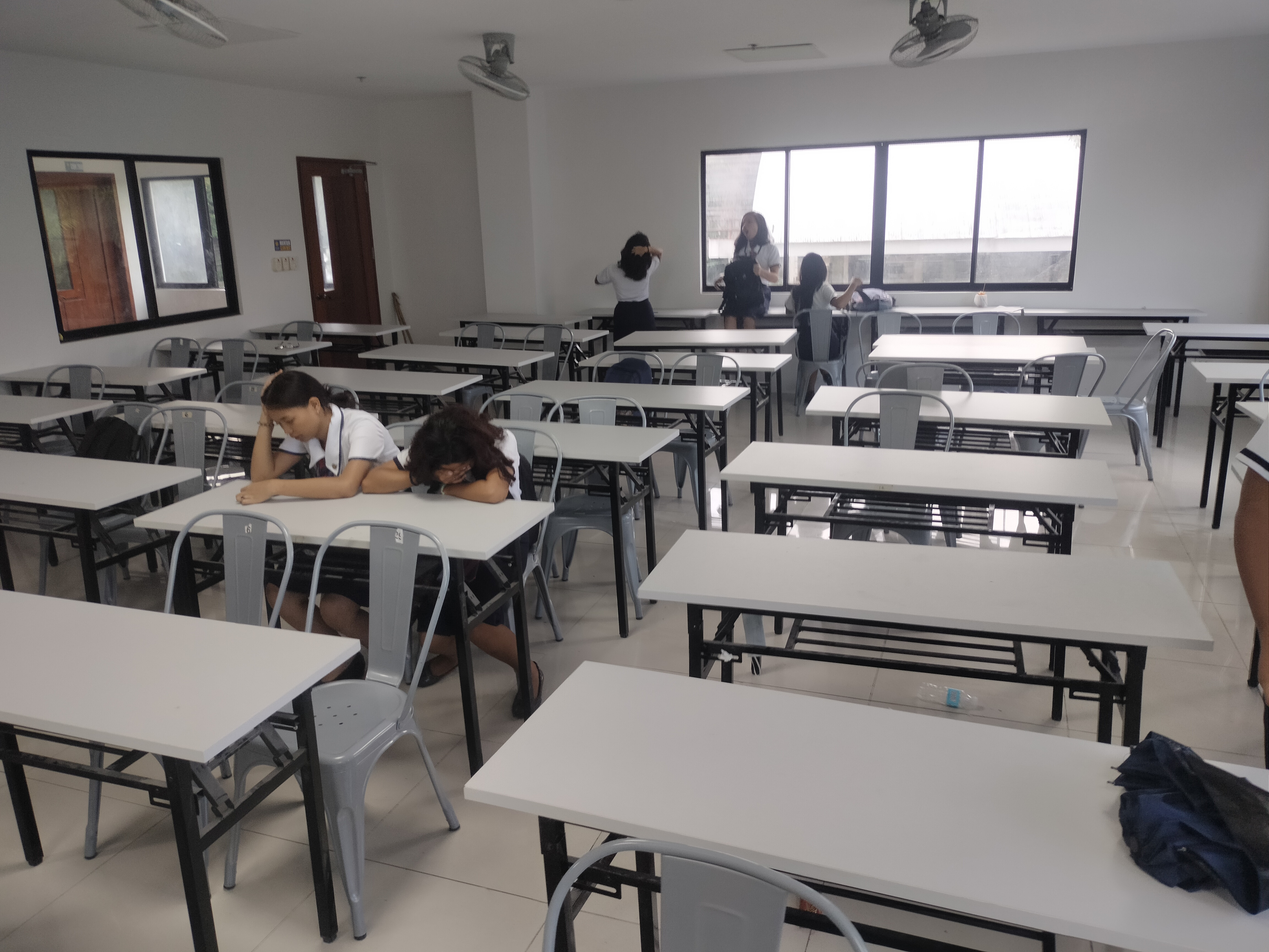with-student: (133, 369, 559, 629)
